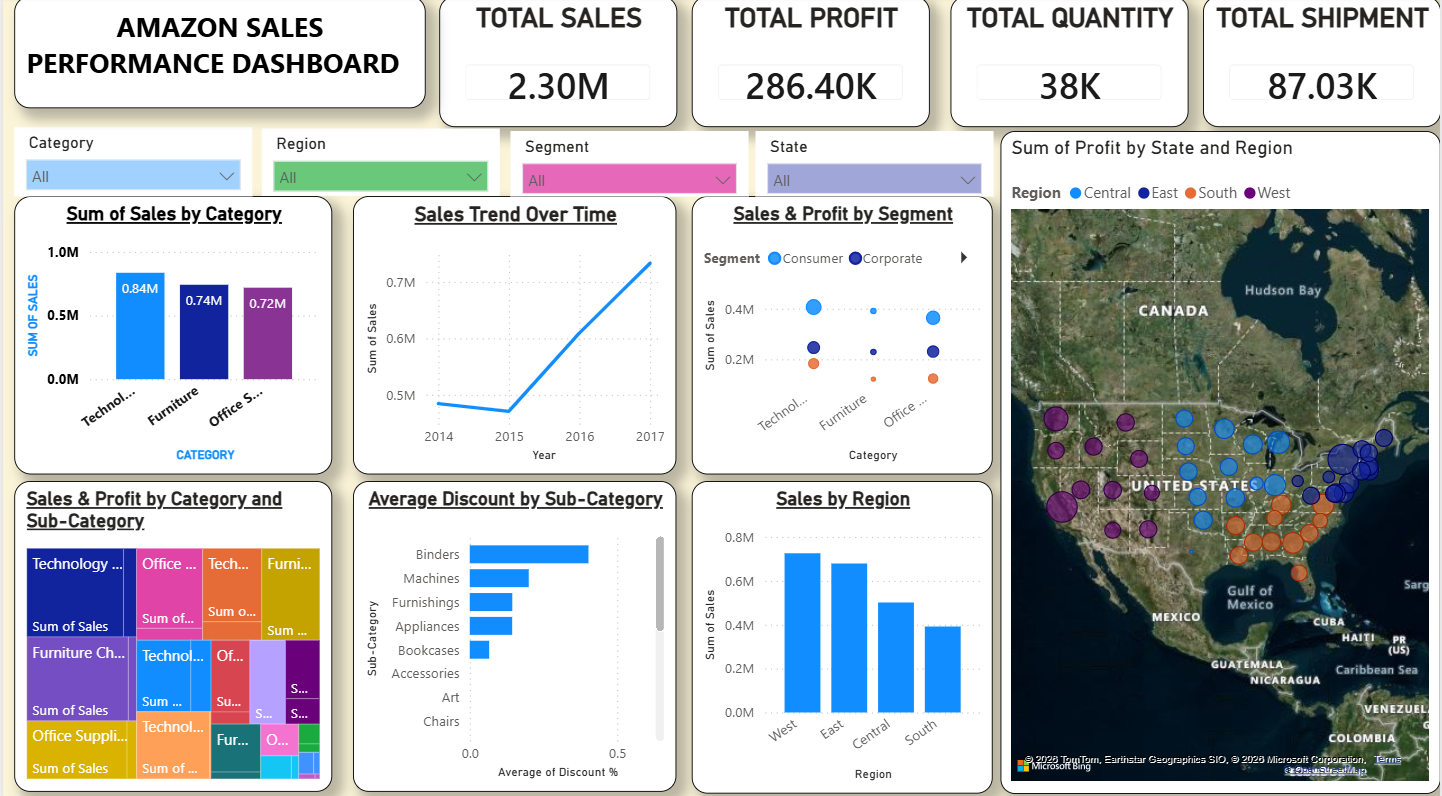

Layout of this report page (visuals, bound fields, positions):
{"tool":"powerbi","page":{"name":"Page 1","canvas":[1280,720],"ordinal":0},"visuals":[{"type":"cardVisual","title":"TOTAL SALES","fields":{"Data":["Sum(Orders.Sales)"]},"box":[388.3,0,211.7,116.7],"z":0},{"type":"cardVisual","title":"TOTAL PROFIT","fields":{"Data":["Sum(Orders.Profit)"]},"box":[613.3,0,211.7,116.7],"z":1000},{"type":"cardVisual","title":"TOTAL QUANTITY","fields":{"Data":["Sum(Orders.Quantity)"]},"box":[843.3,0,211.7,116.7],"z":2000},{"type":"cardVisual","title":"TOTAL SHIPMENT","fields":{"Data":["Sum(Orders.Shipment Cost)"]},"box":[1068.3,0,211.7,116.7],"z":3000},{"type":"columnChart","fields":{"Y":["Sum(Orders.Sales)"],"Category":["Orders.Category"]},"box":[10,178.3,283.3,248.3],"z":4000},{"type":"lineChart","title":"Sales Trend Over Time","fields":{"Y":["Sum(Orders.Sales)"],"Category":["Orders.Order Date.Variation.Date Hierarchy.Year","Orders.Order Date.Variation.Date Hierarchy.Month"]},"box":[311.7,178.3,288.3,248.3],"z":5000},{"type":"scatterChart","title":"Sales & Profit by Segment","fields":{"Series":["Orders.Segment"],"Size":["Sum(Orders.Profit)"],"Y":["Sum(Orders.Sales)"],"X":["Orders.Category"]},"box":[613.3,178.3,268.3,248.3],"z":6000},{"type":"treemap","title":"Sales & Profit by Category and Sub-Category","fields":{"Group":["Orders.Category","Orders.Sub-Category"],"Values":["Sum(Orders.Profit)","Sum(Orders.Sales)"]},"box":[10,431.7,283.3,276.7],"z":7000},{"type":"barChart","title":"Average Discount by Sub-Category","fields":{"Category":["Orders.Sub-Category"],"Y":["Avg(Orders.Discount %)"]},"box":[311.7,431.7,288.3,276.7],"z":8000},{"type":"clusteredColumnChart","title":"Sales by Region","fields":{"Category":["Orders.Region"],"Y":["Sum(Orders.Sales)"]},"box":[613.3,431.7,268.3,278.3],"z":9000},{"type":"map","fields":{"Series":["Orders.Region"],"Size":["Sum(Orders.Profit)"],"Category":["Orders.State"]},"box":[888.3,120,391.7,590],"z":10000},{"type":"slicer","fields":{"Values":["Orders.Category"]},"box":[10,116.7,211.7,61.7],"z":11000},{"type":"slicer","fields":{"Values":["Orders.Region"]},"box":[230,118.3,211.7,60],"z":12000},{"type":"slicer","fields":{"Values":["Orders.Segment"]},"box":[451.7,120,211.7,58.3],"z":13000},{"type":"slicer","fields":{"Values":["Orders.State"]},"box":[670,120,211.7,58.3],"z":14000},{"type":"textbox","box":[10,0,366.7,100],"z":15000}]}

Visuals, with their boxes in screenshot pixels (x1, y1, x2, y2), scaled from the page's 1280x720 canvas onto the 1442x796 screenshot:
"TOTAL SALES" cardVisual: {"left": 437, "top": 0, "right": 676, "bottom": 129}
"TOTAL PROFIT" cardVisual: {"left": 691, "top": 0, "right": 929, "bottom": 129}
"TOTAL QUANTITY" cardVisual: {"left": 950, "top": 0, "right": 1189, "bottom": 129}
"TOTAL SHIPMENT" cardVisual: {"left": 1204, "top": 0, "right": 1441, "bottom": 129}
columnChart - Sum(Orders.Sales) x Orders.Category: {"left": 11, "top": 197, "right": 330, "bottom": 472}
"Sales Trend Over Time" lineChart: {"left": 351, "top": 197, "right": 676, "bottom": 472}
"Sales & Profit by Segment" scatterChart: {"left": 691, "top": 197, "right": 993, "bottom": 472}
"Sales & Profit by Category and Sub-Category" treemap: {"left": 11, "top": 477, "right": 330, "bottom": 783}
"Average Discount by Sub-Category" barChart: {"left": 351, "top": 477, "right": 676, "bottom": 783}
"Sales by Region" clusteredColumnChart: {"left": 691, "top": 477, "right": 993, "bottom": 785}
map - Orders.Region x Sum(Orders.Profit): {"left": 1001, "top": 133, "right": 1441, "bottom": 785}
slicer - Orders.Category: {"left": 11, "top": 129, "right": 250, "bottom": 197}
slicer - Orders.Region: {"left": 259, "top": 131, "right": 498, "bottom": 197}
slicer - Orders.Segment: {"left": 509, "top": 133, "right": 747, "bottom": 197}
slicer - Orders.State: {"left": 755, "top": 133, "right": 993, "bottom": 197}
textbox: {"left": 11, "top": 0, "right": 424, "bottom": 111}
